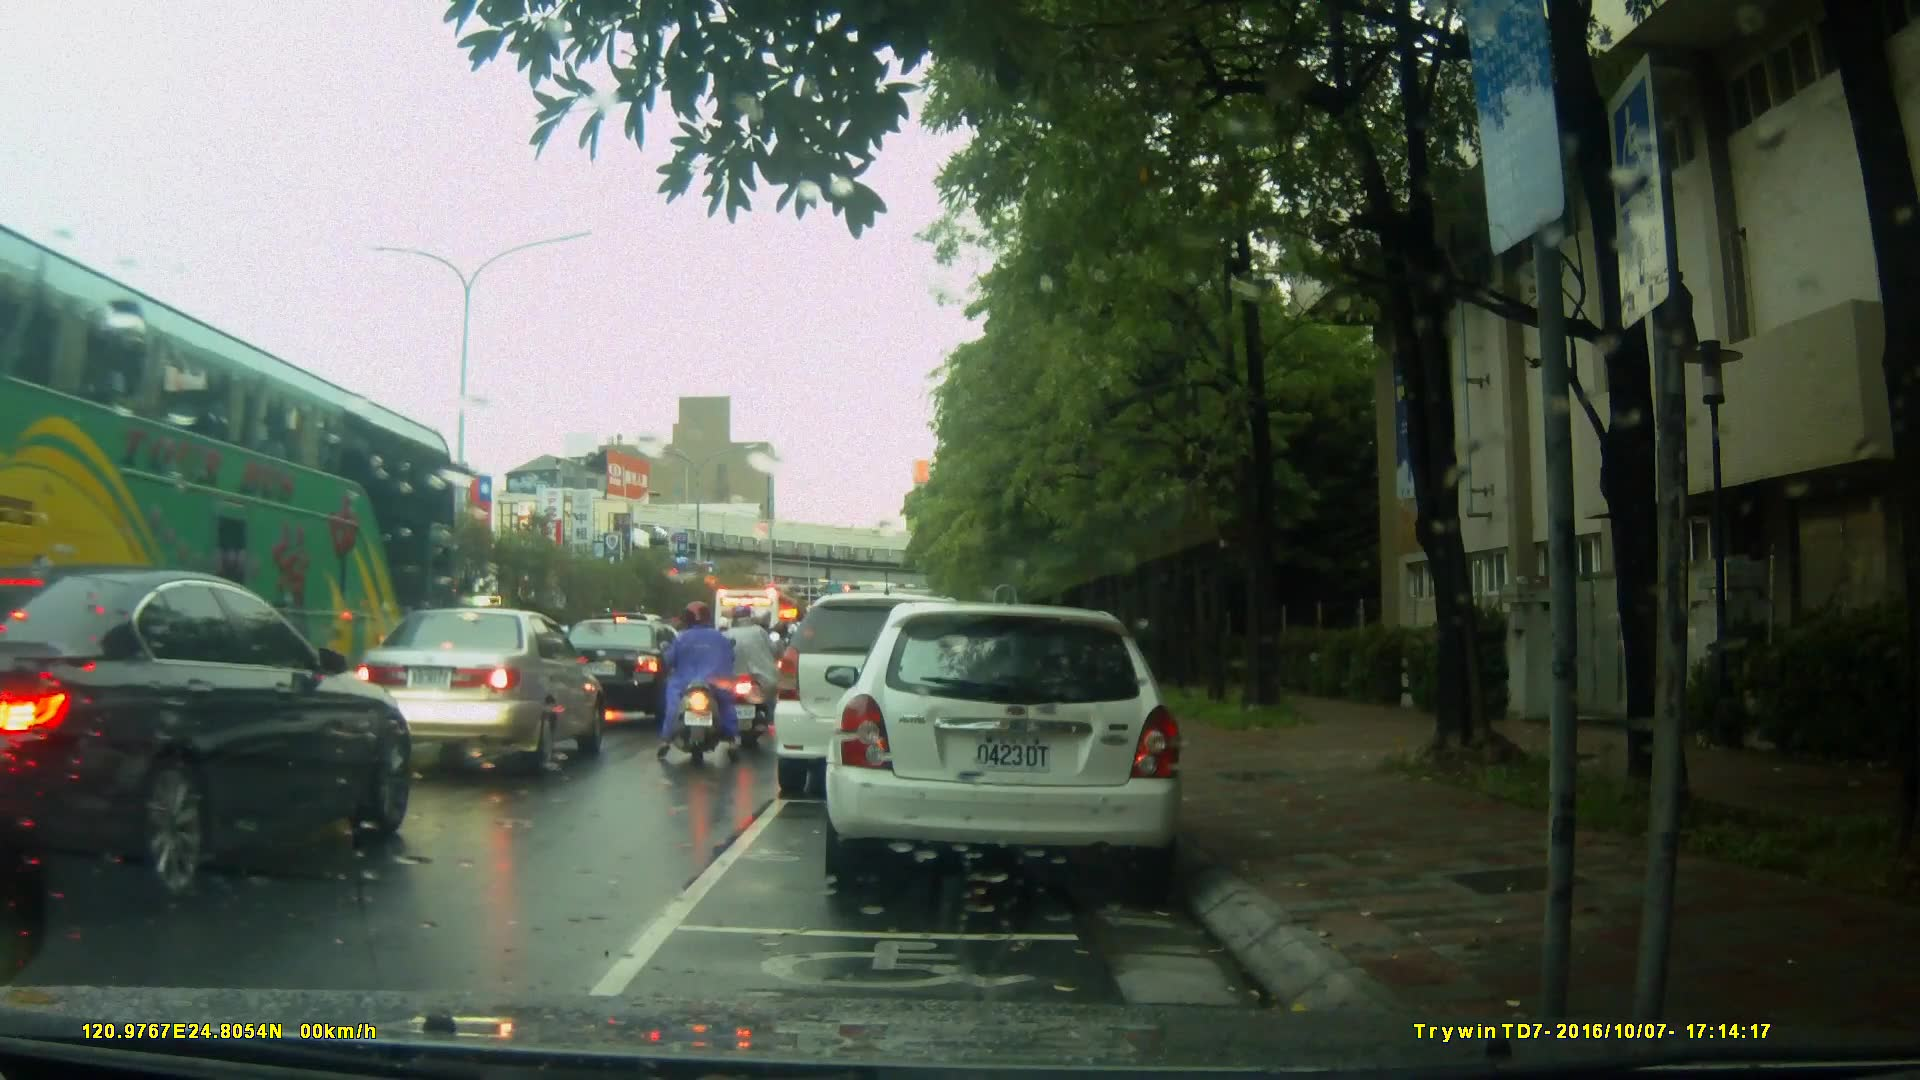rider: (660, 600, 731, 770), (726, 600, 784, 737)
vehicle: (1, 247, 483, 682), (8, 569, 405, 916), (831, 592, 1196, 897), (770, 592, 999, 798), (352, 607, 610, 778), (548, 618, 681, 732), (714, 583, 803, 706)
